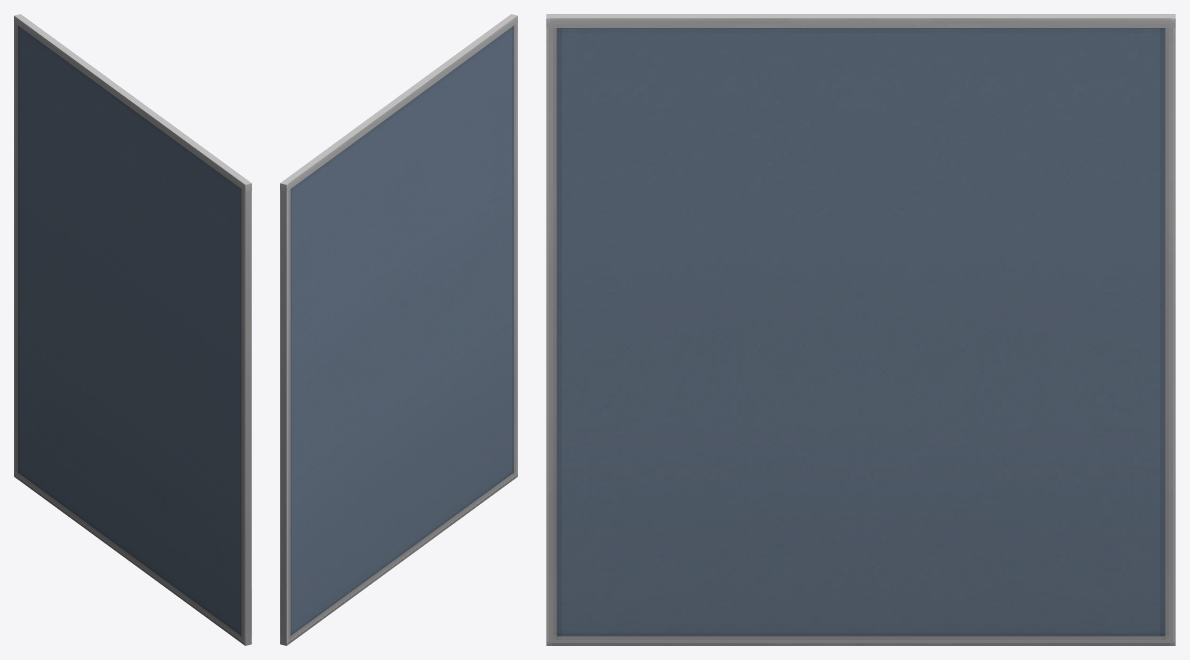
The model's file is DividerMedium.glb.
3 renders of one model, left to right at view 1: azimuth 30°, elevation 25°; view 2: azimuth 150°, elevation 25°; view 3: azimuth 270°, elevation 25°, orthographic. The views are drawn at different scales.
Parts seen in each view (by area): view 1: divider-medium; view 2: divider-medium; view 3: divider-medium.
Boxes of the visible parts, box(x1,y1,x2,y2) form: divider-medium: box(14, 14, 251, 645); divider-medium: box(280, 14, 517, 645); divider-medium: box(546, 14, 1175, 645).
Size of the model in its own units: 0.02 by 1.32 by 1.2.
Materials: 1 (1 with a texture image).
